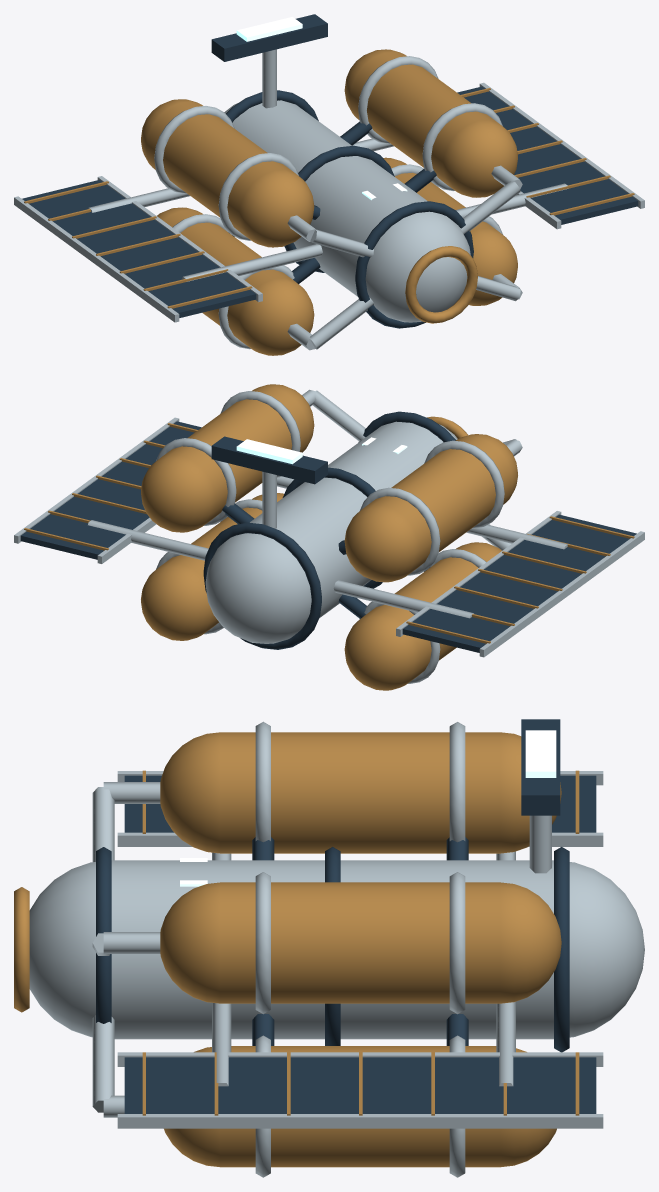
The model's file is base-refinery.glb.
The picture shows the model from 3 angles, top to bottom: view 1: azimuth 30°, elevation 25°; view 2: azimuth 150°, elevation 25°; view 3: azimuth 270°, elevation 25°; orthographic projection. The views are drawn at different scales.
Visible parts, largest first — view 1: _MeshInstance3D_88, _MeshInstance3D_99, _MeshInstance3D_125, _MeshInstance3D_106, _MeshInstance3D_92, _MeshInstance3D_132, _MeshInstance3D_118, _MeshInstance3D_91, _MeshInstance3D_144, _MeshInstance3D_148, _MeshInstance3D_107, _MeshInstance3D_117 (+17 smaller); view 2: _MeshInstance3D_88, _MeshInstance3D_99, _MeshInstance3D_125, _MeshInstance3D_106, _MeshInstance3D_92, _MeshInstance3D_132, _MeshInstance3D_118, _MeshInstance3D_89, _MeshInstance3D_148, _MeshInstance3D_107, _MeshInstance3D_116, _MeshInstance3D_142 (+15 smaller); view 3: _MeshInstance3D_88, _MeshInstance3D_125, _MeshInstance3D_99, _MeshInstance3D_132, _MeshInstance3D_118, _MeshInstance3D_134, _MeshInstance3D_106, _MeshInstance3D_89, _MeshInstance3D_133, _MeshInstance3D_148, _MeshInstance3D_91, _MeshInstance3D_126 (+16 smaller).
Boxes of the visible parts, box(x1,y1,x2,y2) form: _MeshInstance3D_88: box(224, 100, 470, 322); _MeshInstance3D_99: box(141, 99, 314, 247); _MeshInstance3D_125: box(344, 49, 517, 197); _MeshInstance3D_106: box(22, 179, 256, 317); _MeshInstance3D_92: box(157, 207, 314, 355); _MeshInstance3D_132: box(457, 86, 638, 224); _MeshInstance3D_118: box(383, 157, 517, 305); _MeshInstance3D_91: box(355, 201, 473, 328); _MeshInstance3D_144: box(405, 246, 477, 323); _MeshInstance3D_148: box(211, 14, 327, 61); _MeshInstance3D_107: box(14, 196, 179, 322); _MeshInstance3D_117: box(182, 244, 322, 281); _MeshInstance3D_88: box(205, 421, 457, 643); _MeshInstance3D_99: box(344, 434, 517, 582); _MeshInstance3D_125: box(141, 384, 314, 532); _MeshInstance3D_106: box(402, 514, 636, 652); _MeshInstance3D_92: box(344, 542, 501, 690); _MeshInstance3D_132: box(20, 421, 201, 559); _MeshInstance3D_118: box(141, 493, 283, 640); _MeshInstance3D_89: box(203, 522, 321, 649); _MeshInstance3D_148: box(211, 436, 327, 484); _MeshInstance3D_107: box(479, 531, 644, 657); _MeshInstance3D_116: box(333, 580, 473, 618); _MeshInstance3D_142: box(88, 520, 208, 560); _MeshInstance3D_88: box(29, 860, 644, 1039); _MeshInstance3D_125: box(160, 882, 561, 1003); _MeshInstance3D_99: box(160, 732, 561, 853); _MeshInstance3D_132: box(124, 1057, 596, 1113); _MeshInstance3D_118: box(164, 1046, 556, 1167); _MeshInstance3D_134: box(117, 1114, 603, 1128); _MeshInstance3D_106: box(124, 775, 596, 832); _MeshInstance3D_89: box(554, 847, 569, 1052); _MeshInstance3D_133: box(117, 1052, 603, 1066); _MeshInstance3D_148: box(521, 719, 560, 815); _MeshInstance3D_91: box(96, 847, 111, 1023); _MeshInstance3D_126: box(449, 872, 465, 1014).
Bounding box in the file's own units: 5.91 × 2.74 × 4.55.
